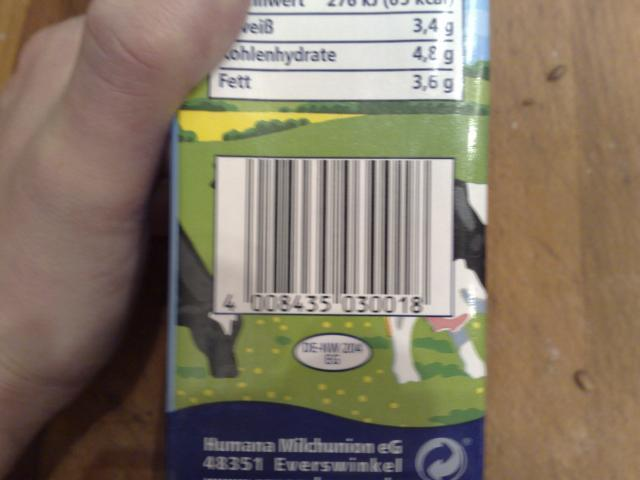Barcode: (217, 157, 450, 315)
